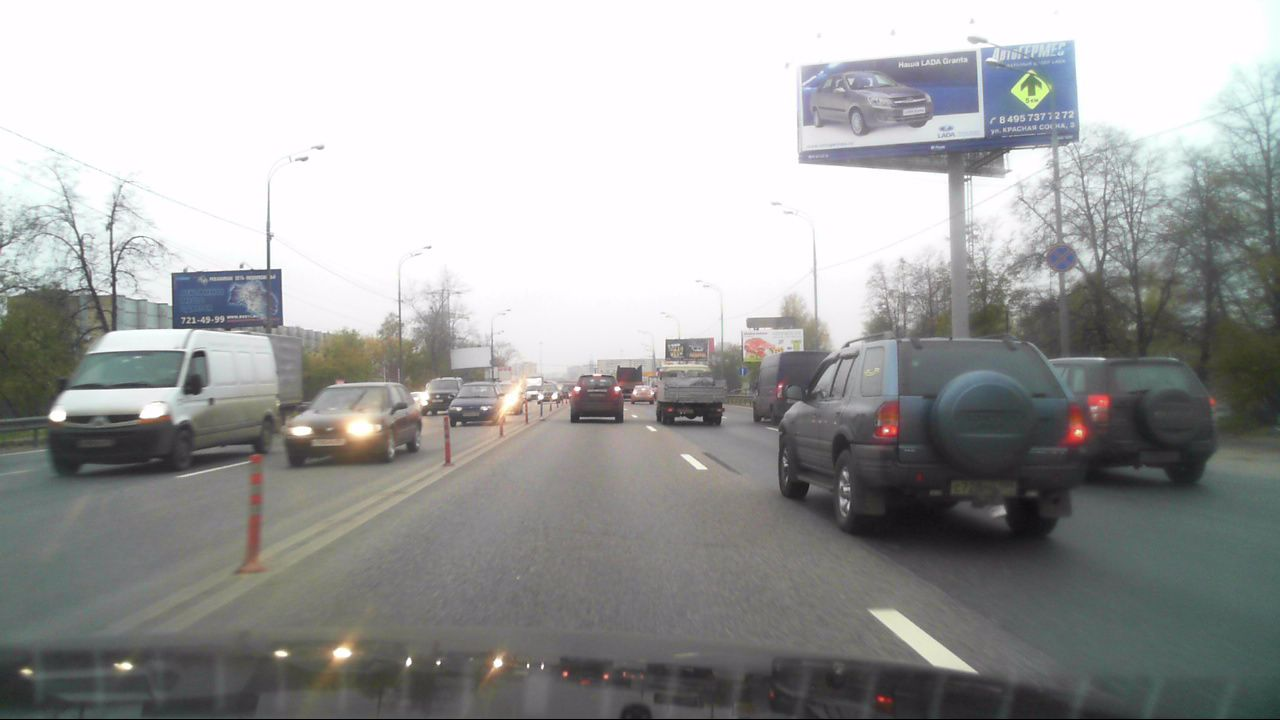No Parking: (1045, 245, 1075, 273)
